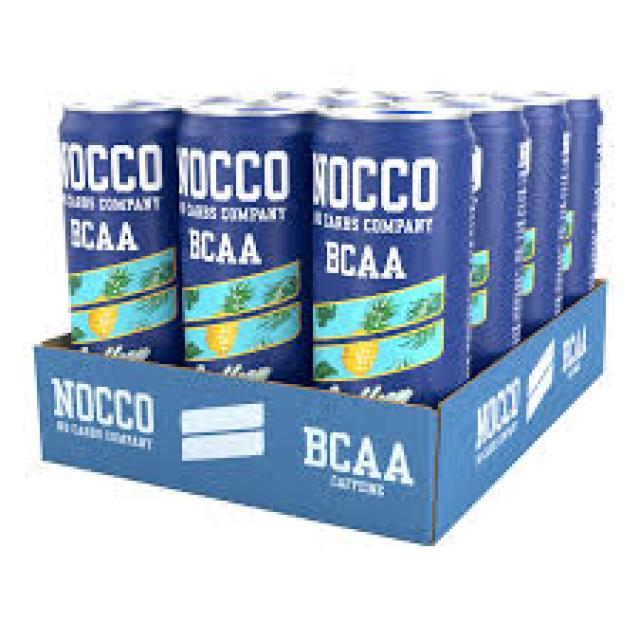Cans: (296, 102, 481, 401), (171, 100, 313, 381), (54, 97, 182, 361)
